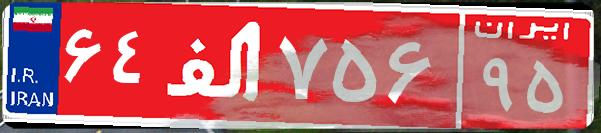4: (110, 28, 158, 105)
5: (330, 28, 385, 110), (525, 38, 570, 115)
6: (385, 28, 445, 110), (57, 26, 110, 107)
7: (273, 28, 330, 110)
9: (475, 38, 525, 113)
الف: (158, 15, 273, 115)
